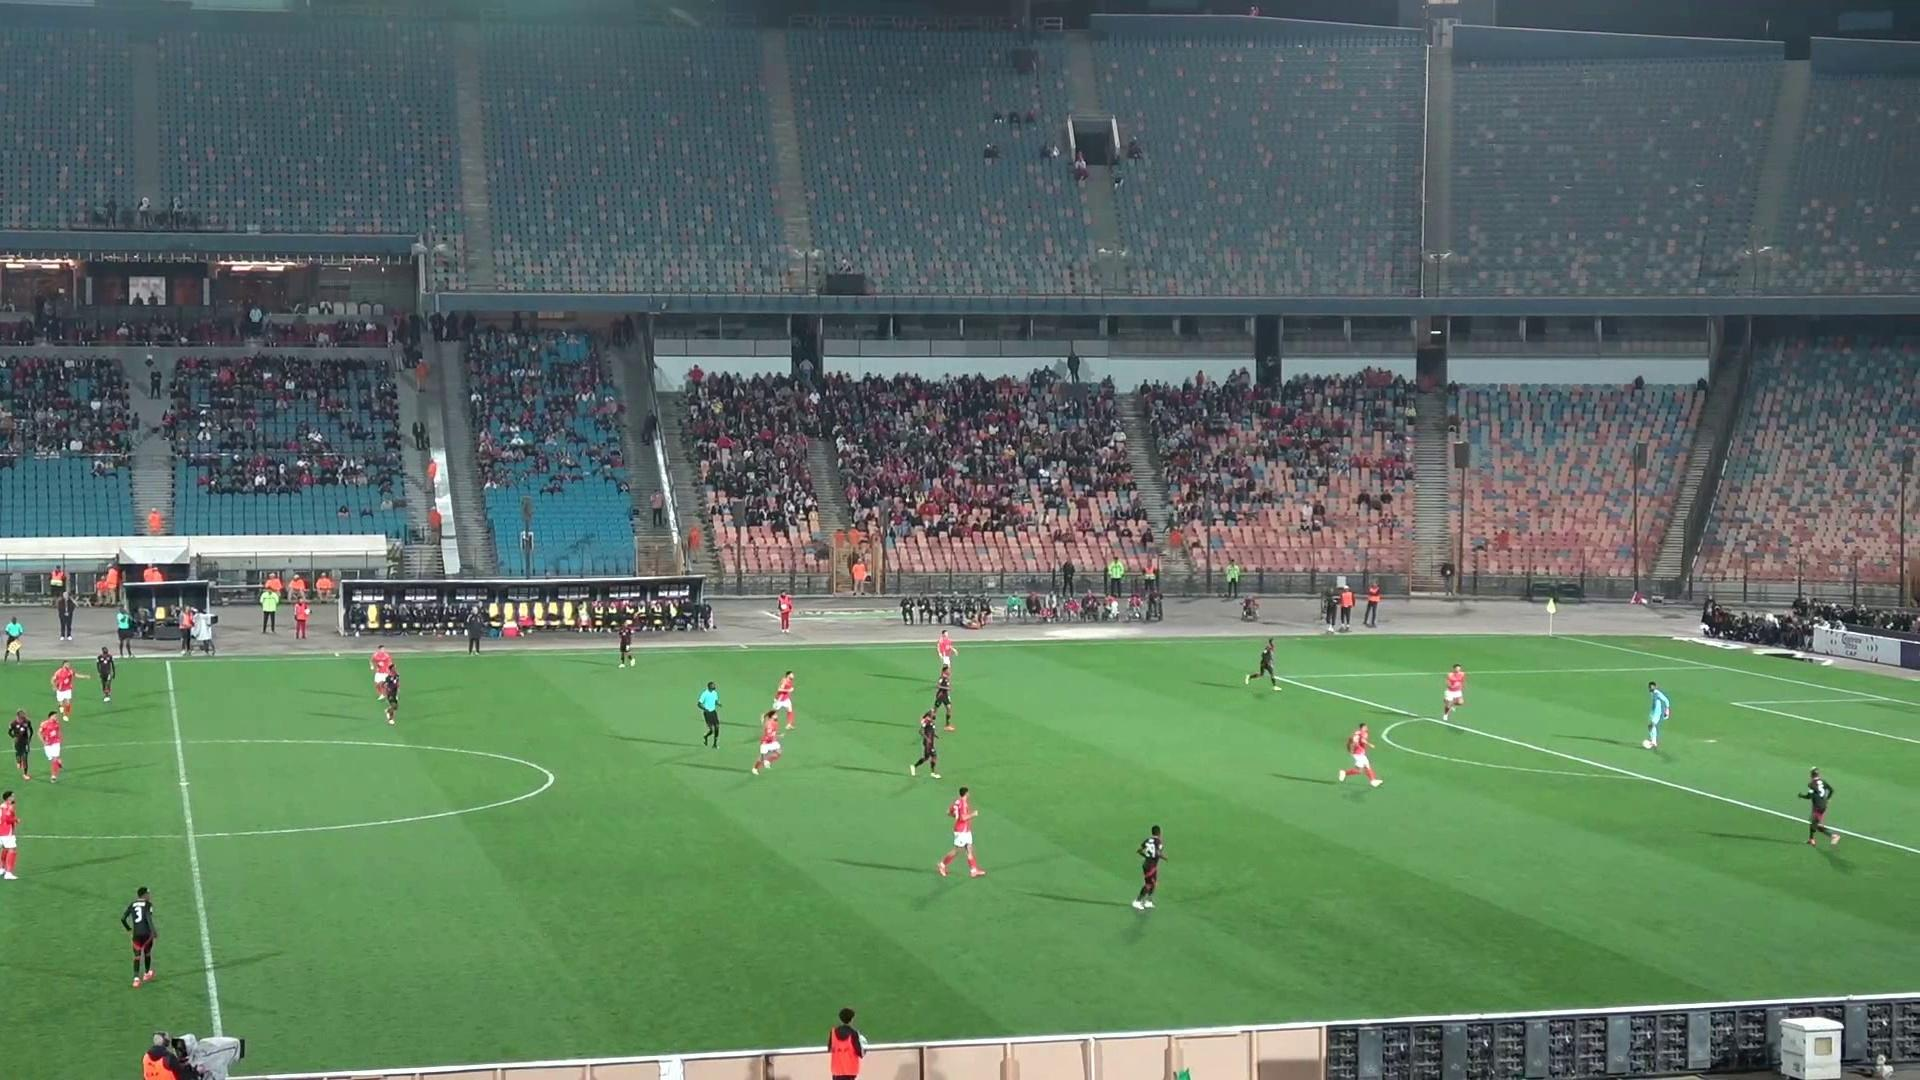Ball: (1642, 731, 1658, 752)
GK2: (1642, 680, 1671, 750)
Refree: (696, 680, 720, 746), (0, 617, 24, 661), (116, 607, 135, 657)
Team1: (938, 787, 984, 876), (1338, 723, 1382, 786), (752, 709, 781, 774), (38, 709, 63, 782), (371, 646, 400, 705), (767, 670, 795, 729), (0, 791, 18, 880), (51, 661, 76, 717), (1443, 663, 1465, 720), (938, 630, 957, 680)
Team2: (121, 887, 157, 986), (1799, 767, 1840, 845), (1131, 825, 1164, 909), (923, 661, 955, 733), (910, 709, 938, 777), (9, 709, 36, 778), (1245, 640, 1279, 688), (375, 659, 400, 724), (96, 647, 117, 702)
